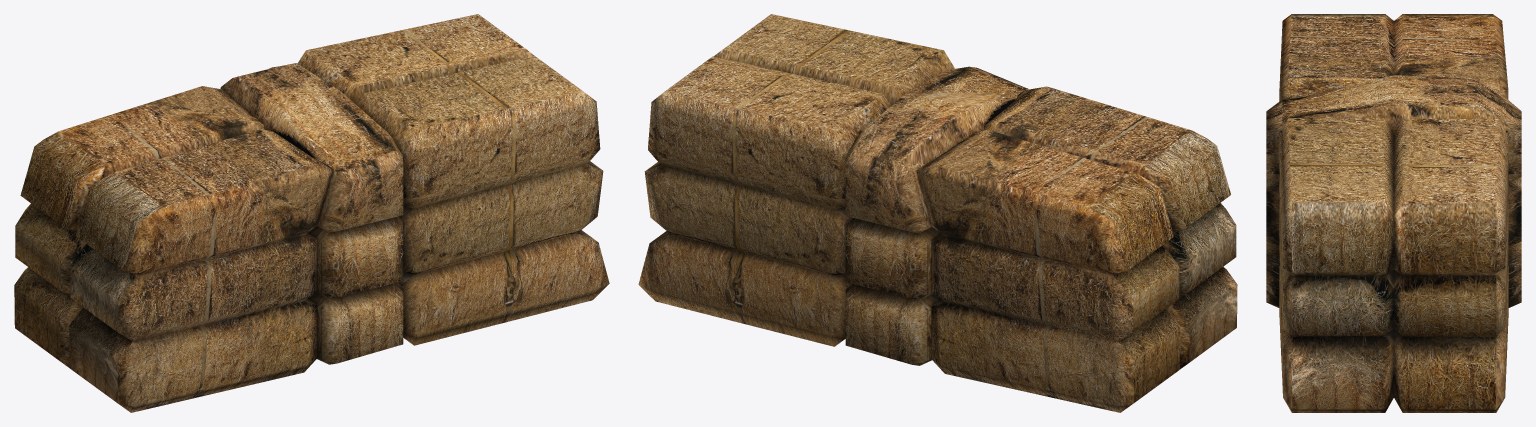
The model's file is strohballen_01.fbx.
3 views of the same model, side by side, from view 1: azimuth 30°, elevation 25°; view 2: azimuth 150°, elevation 25°; view 3: azimuth 270°, elevation 25° (orthographic). The views are drawn at different scales.
Parts seen in each view (by area): view 1: Mesh; view 2: Mesh; view 3: Mesh.
Boxes of the visible parts, bbox=[...] form: Mesh: bbox=[14, 14, 609, 412]; Mesh: bbox=[638, 14, 1237, 412]; Mesh: bbox=[1266, 14, 1521, 412].
Bounding box in the file's own units: 634 × 270 × 293.
